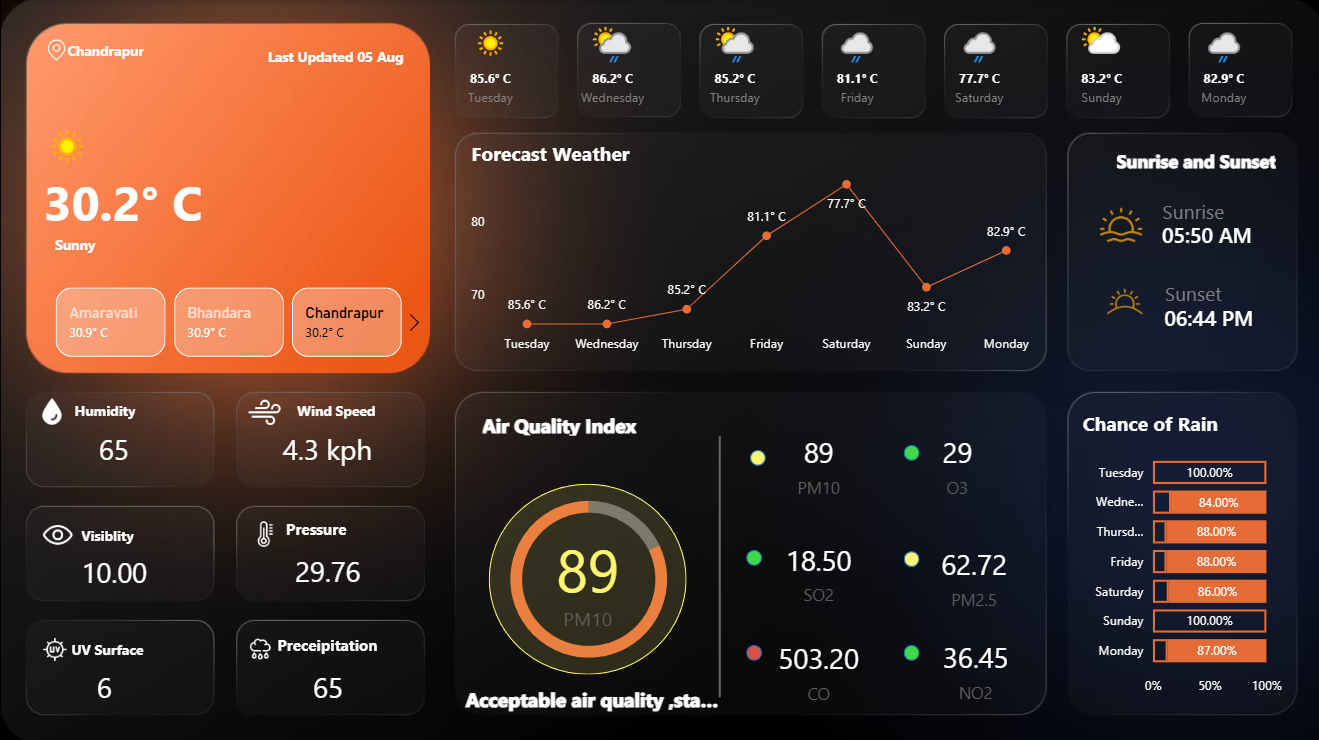

The dashboard page shown, as its layout file describes it:
{"tool":"powerbi","page":{"name":"Page 1","canvas":[1280,720],"ordinal":0},"visuals":[{"type":"donutChart","fields":{"Y":["Sum(Current.current.air_quality.pm10)","_Measures.left_value_PM10"]},"box":[460,460,217.5,199.3],"z":0},{"type":"shape","box":[471.6,466.6,191,184.3],"z":1000},{"type":"advancedSlicerVisual","fields":{"Values":["location.location.name"]},"box":[29,272.7,386.1,77.2],"z":2000},{"type":"shape","box":[36.2,154.4,165.3,79.6],"z":3000},{"type":"shape","box":[52.5,32.5,97.5,31.2],"z":4000},{"type":"shape","box":[52.5,216.2,137.5,40],"z":5000},{"type":"shape","box":[255,41.2,138.8,25],"z":6000},{"type":"image","box":[40,30,30,36.2],"z":7000},{"type":"cardVisual","fields":{"Data":["Min(Current.current.condition.icon)"]},"box":[9.7,96.5,100.1,91.7],"z":8000},{"type":"shape","box":[53.1,383.6,96.5,24.1],"z":9000},{"type":"image","box":[30.2,494.6,50.7,43.4],"z":10000},{"type":"shape","box":[55.5,507.9,96.5,18.1],"z":11000},{"type":"shape","box":[55.5,617.7,96.5,18.1],"z":12000},{"type":"image","box":[30.2,378.8,39.8,37.4],"z":13000},{"type":"image","box":[36.2,609.3,33.8,35],"z":14000},{"type":"shape","box":[276.3,387.3,96.5,16.9],"z":15000},{"type":"image","box":[234,375.2,42.2,45.8],"z":16000},{"type":"shape","box":[257,500.7,96.5,16.9],"z":17000},{"type":"image","box":[234,498.3,44.6,35],"z":18000},{"type":"shape","box":[267.8,609.3,96.5,26.5],"z":19000},{"type":"image","box":[226.8,609.3,49.5,35],"z":20000},{"type":"card","fields":{"Values":["Sum(Current.current.humidity)"]},"box":[47.3,408.3,125.7,54.1],"z":21000},{"type":"card","fields":{"Values":["_Measures.wind_kph"]},"box":[252.8,408.3,125.7,54.1],"z":22000},{"type":"card","fields":{"Values":["Sum(Current.current.vis_km)"]},"box":[64.9,525.9,90.6,55.4],"z":23000},{"type":"card","fields":{"Values":["Sum(Current.current.pressure_in)"]},"box":[267.7,525.9,97.3,54.1],"z":24000},{"type":"card","fields":{"Values":["Sum(Current.current.uv)"]},"box":[55.4,636.8,90.6,55.4],"z":25000},{"type":"card","fields":{"Values":["Sum(Current.current.humidity)"]},"box":[271.7,636.8,90.6,55.4],"z":26000},{"type":"advancedSlicerVisual","fields":{"Values":["Forecast_Day.Forecast_day"]},"box":[413.3,13,828.1,106.6],"z":27000},{"type":"lineChart","title":"Forecast Weather","fields":{"Y":["Sum(Forecast_Day.forecast.forecastday.day.avghumidity)"],"Category":["Forecast_Day.Forecast_day"]},"box":[450.5,135,557.3,214.8],"z":28000},{"type":"shape","box":[460.9,398.6,157.8,22.1],"z":29000},{"type":"shape","box":[1096.6,203.5,136.2,44.2],"z":30000},{"type":"shape","box":[1101.5,282.1,130.1,47.9],"z":31000},{"type":"shape","box":[1096.6,187.8,110.5,30.7],"z":32000},{"type":"shape","box":[1100.3,262.7,103.1,39.3],"z":33000},{"type":"image","box":[1056.9,191.5,50.3,50.3],"z":34000},{"type":"image","box":[1056.9,262.7,57.7,56.5],"z":35000},{"type":"hundredPercentStackedBarChart","title":"Chance of Rain","fields":{"Y":["Current.left_value_rain","Sum(Forecast_Day.forecast.forecastday.day.daily_chance_of_rain)"],"Category":["Forecast_Day.Forecast_day"]},"box":[1039.7,395.2,202.5,284.8],"z":36000},{"type":"shape","box":[1075.7,143.9,157,21.6],"z":37000},{"type":"card","fields":{"Values":["Sum(Current.current.air_quality.o3)"]},"box":[872.8,407.5,103.8,81.7],"z":38000},{"type":"card","fields":{"Values":["Sum(Current.current.air_quality.no2)"]},"box":[890.1,606.1,103,81.4],"z":39000},{"type":"card","fields":{"Values":["Sum(Current.current.air_quality.co)"]},"box":[738.5,606.8,103.8,81.7],"z":40000},{"type":"card","fields":{"Values":["Sum(Current.current.air_quality.so2)"]},"box":[738.5,511.3,103.8,81.7],"z":41000},{"type":"card","fields":{"Values":["Sum(Current.current.air_quality.pm2_5)"]},"box":[888.4,516.5,104.6,81.4],"z":42000},{"type":"card","fields":{"Values":["Sum(Current.current.air_quality.pm10)"]},"box":[738.5,407.5,103.8,81.7],"z":43000},{"type":"shape","box":[723.3,433.8,15.2,15.2],"z":44000},{"type":"shape","box":[720.6,530.7,15.2,15.2],"z":45000},{"type":"shape","box":[720.6,622,15.2,15.2],"z":46000},{"type":"shape","box":[872.8,429.6,15.2,15.2],"z":47000},{"type":"shape","box":[872.8,532,15.2,15.2],"z":48000},{"type":"shape","box":[872.8,622,15.2,15.2],"z":49000},{"type":"shape","box":[668.5,420.8,52.6,251.9],"z":50000},{"type":"card","fields":{"Values":["Sum(Current.current.air_quality.pm10)"]},"box":[514.8,509.8,104.6,99.6],"z":51000},{"type":"shape","box":[441.7,659.3,252.4,31.6],"z":52001}]}

Visuals, with their boxes in screenshot pixels (x1, y1, x2, y2), scaled from the page's 1280x720 canvas onto the 1319x740 screenshot:
donutChart - Sum(Current.current.air_quality.pm10) x _Measures.left_value_PM10: (x1=474, y1=473, x2=698, y2=678)
shape: (x1=486, y1=480, x2=683, y2=669)
advancedSlicerVisual - location.location.name: (x1=30, y1=280, x2=428, y2=360)
shape: (x1=37, y1=159, x2=208, y2=240)
shape: (x1=54, y1=33, x2=155, y2=65)
shape: (x1=54, y1=222, x2=196, y2=263)
shape: (x1=263, y1=42, x2=406, y2=68)
image: (x1=41, y1=31, x2=72, y2=68)
cardVisual - Min(Current.current.condition.icon): (x1=10, y1=99, x2=113, y2=193)
shape: (x1=55, y1=394, x2=154, y2=419)
image: (x1=31, y1=508, x2=83, y2=553)
shape: (x1=57, y1=522, x2=157, y2=541)
shape: (x1=57, y1=635, x2=157, y2=653)
image: (x1=31, y1=389, x2=72, y2=428)
image: (x1=37, y1=626, x2=72, y2=662)
shape: (x1=285, y1=398, x2=384, y2=415)
image: (x1=241, y1=386, x2=285, y2=433)
shape: (x1=265, y1=515, x2=364, y2=532)
image: (x1=241, y1=512, x2=287, y2=548)
shape: (x1=276, y1=626, x2=375, y2=653)
image: (x1=234, y1=626, x2=285, y2=662)
card - Sum(Current.current.humidity): (x1=49, y1=420, x2=178, y2=475)
card - _Measures.wind_kph: (x1=261, y1=420, x2=390, y2=475)
card - Sum(Current.current.vis_km): (x1=67, y1=541, x2=160, y2=597)
card - Sum(Current.current.pressure_in): (x1=276, y1=541, x2=376, y2=596)
card - Sum(Current.current.uv): (x1=57, y1=654, x2=150, y2=711)
card - Sum(Current.current.humidity): (x1=280, y1=654, x2=373, y2=711)
advancedSlicerVisual - Forecast_Day.Forecast_day: (x1=426, y1=13, x2=1279, y2=123)
"Forecast Weather" lineChart: (x1=464, y1=139, x2=1039, y2=360)
shape: (x1=475, y1=410, x2=638, y2=432)
shape: (x1=1130, y1=209, x2=1270, y2=255)
shape: (x1=1135, y1=290, x2=1269, y2=339)
shape: (x1=1130, y1=193, x2=1244, y2=225)
shape: (x1=1134, y1=270, x2=1240, y2=310)
image: (x1=1089, y1=197, x2=1141, y2=249)
image: (x1=1089, y1=270, x2=1149, y2=328)
"Chance of Rain" hundredPercentStackedBarChart: (x1=1071, y1=406, x2=1280, y2=699)
shape: (x1=1108, y1=148, x2=1270, y2=170)
card - Sum(Current.current.air_quality.o3): (x1=899, y1=419, x2=1006, y2=503)
card - Sum(Current.current.air_quality.no2): (x1=917, y1=623, x2=1023, y2=707)
card - Sum(Current.current.air_quality.co): (x1=761, y1=624, x2=868, y2=708)
card - Sum(Current.current.air_quality.so2): (x1=761, y1=526, x2=868, y2=609)
card - Sum(Current.current.air_quality.pm2_5): (x1=915, y1=531, x2=1023, y2=615)
card - Sum(Current.current.air_quality.pm10): (x1=761, y1=419, x2=868, y2=503)
shape: (x1=745, y1=446, x2=761, y2=461)
shape: (x1=743, y1=545, x2=758, y2=561)
shape: (x1=743, y1=639, x2=758, y2=655)
shape: (x1=899, y1=442, x2=915, y2=457)
shape: (x1=899, y1=547, x2=915, y2=562)
shape: (x1=899, y1=639, x2=915, y2=655)
shape: (x1=689, y1=432, x2=743, y2=691)
card - Sum(Current.current.air_quality.pm10): (x1=530, y1=524, x2=638, y2=626)
shape: (x1=455, y1=678, x2=715, y2=710)
